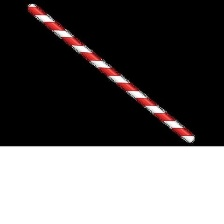drinking_straw: (24, 0, 200, 146)
